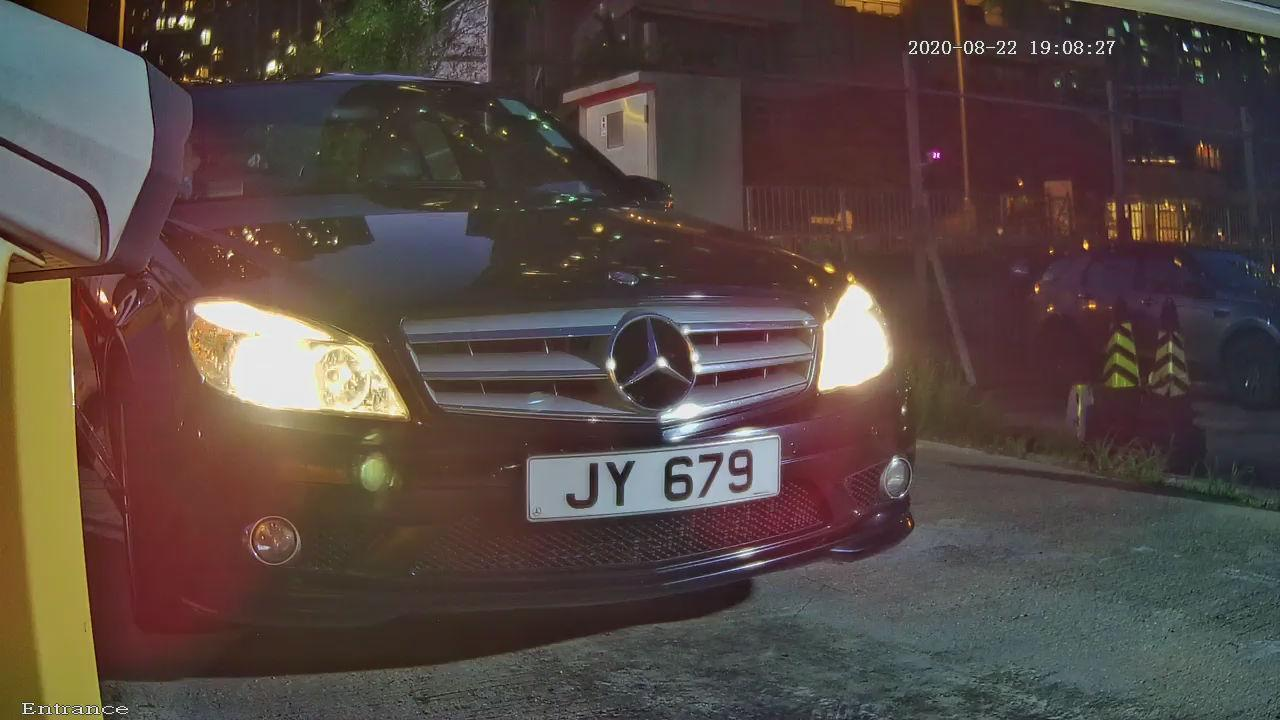Car: (1, 13, 1023, 692)
License Plate: (515, 422, 795, 524)
